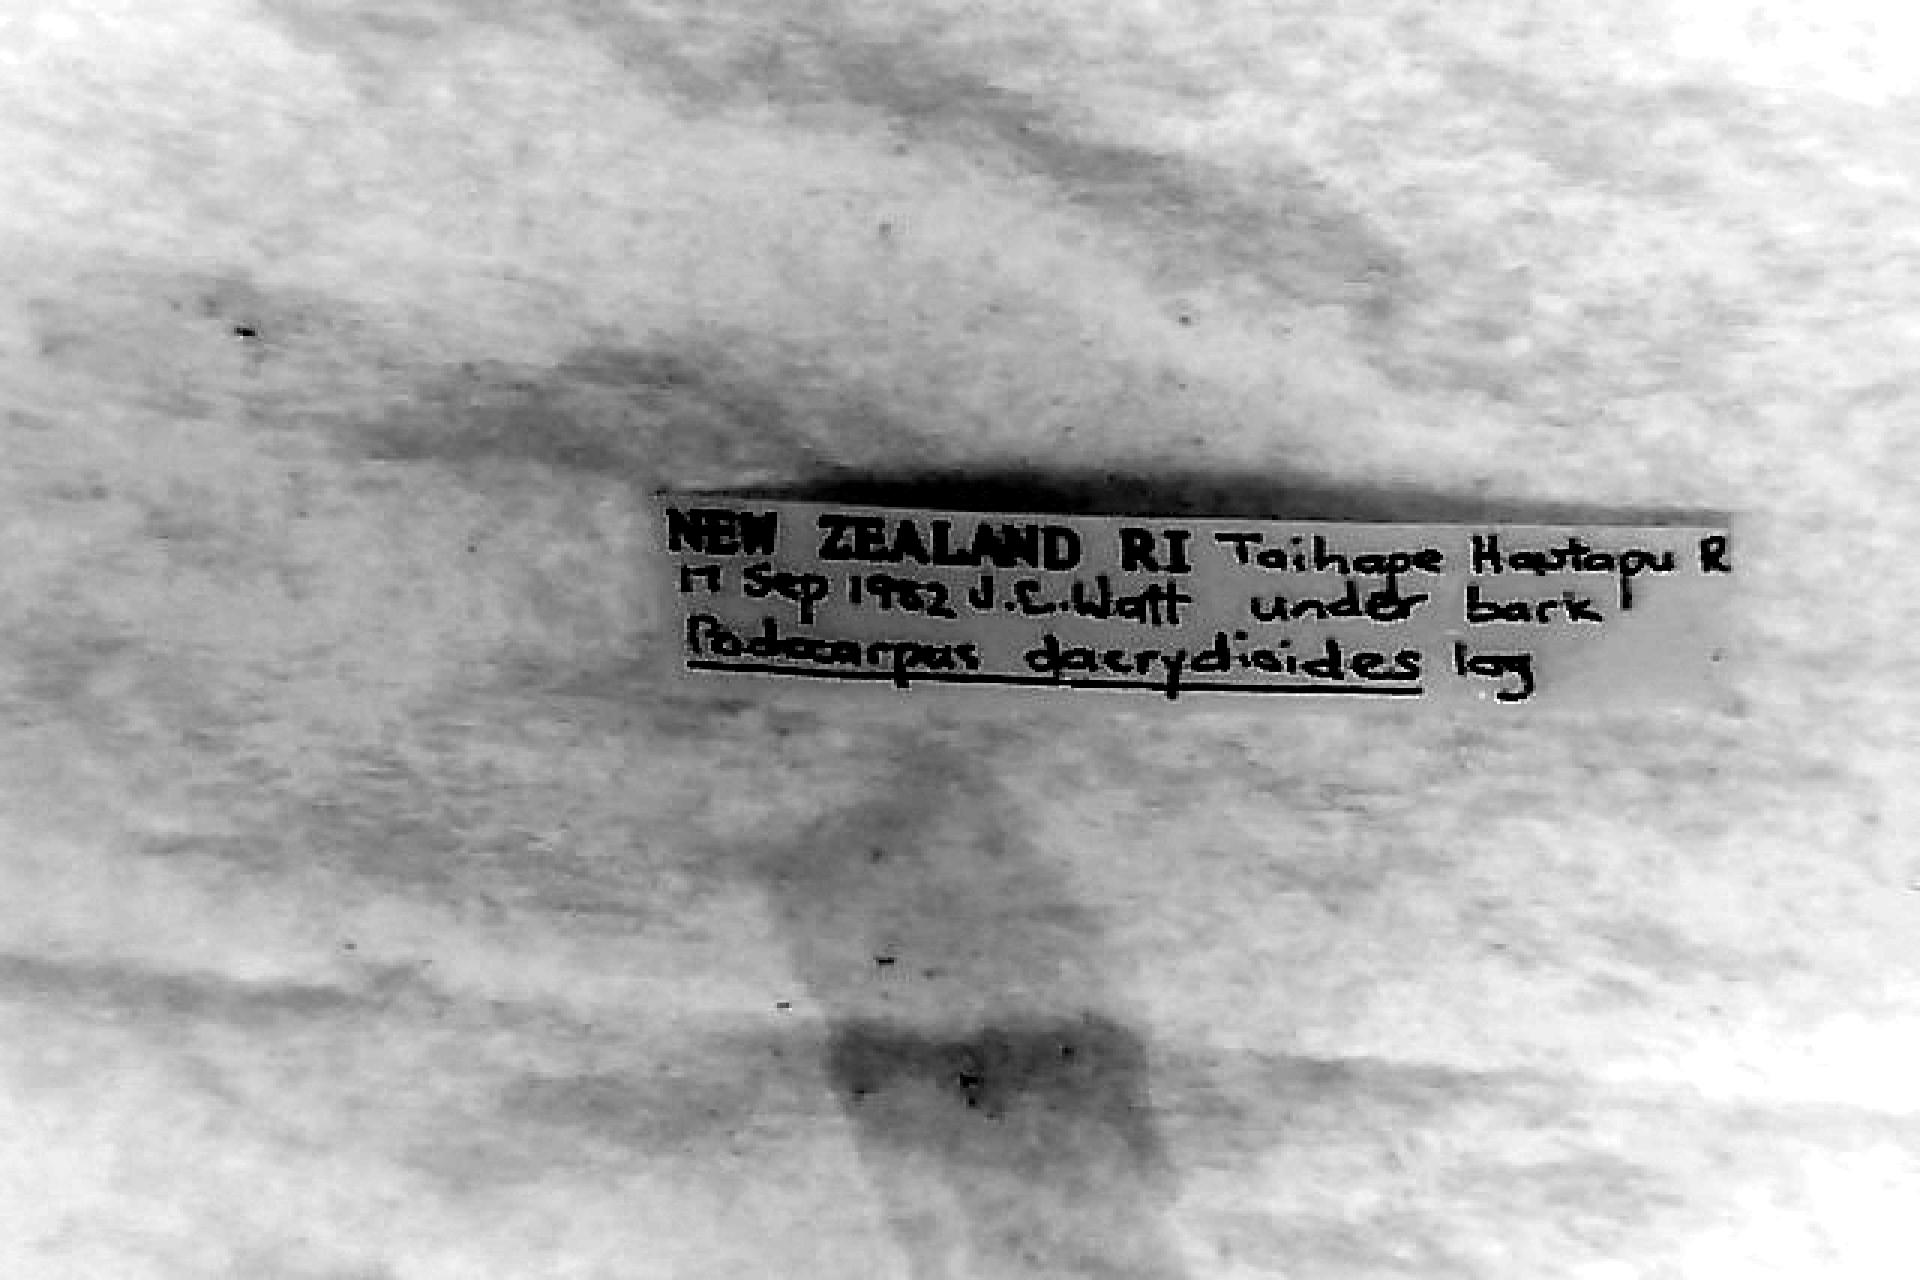mixed_label: (660, 498, 1736, 702)
